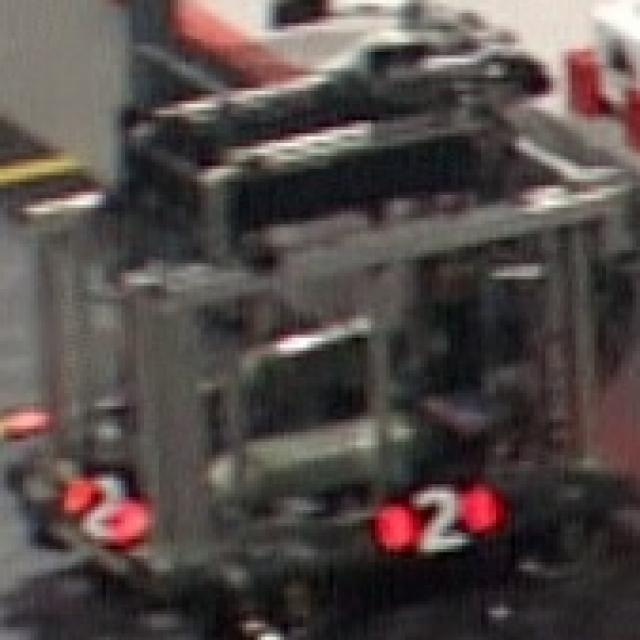R2: (371, 474, 504, 559), (61, 471, 148, 539)
